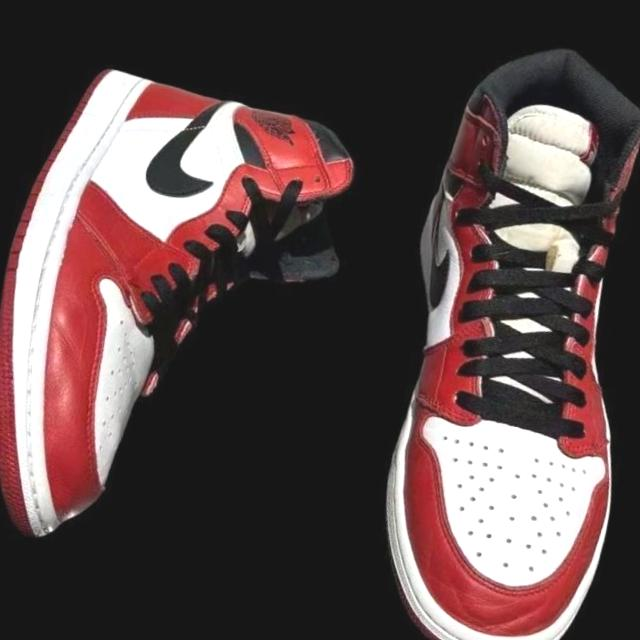nike_original_jordan: (0, 40, 377, 586), (310, 17, 640, 640)
